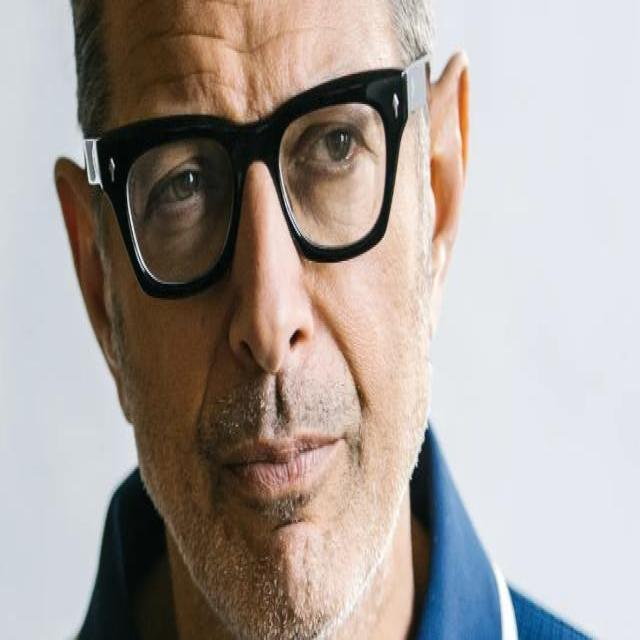glasses: (82, 54, 430, 306)
